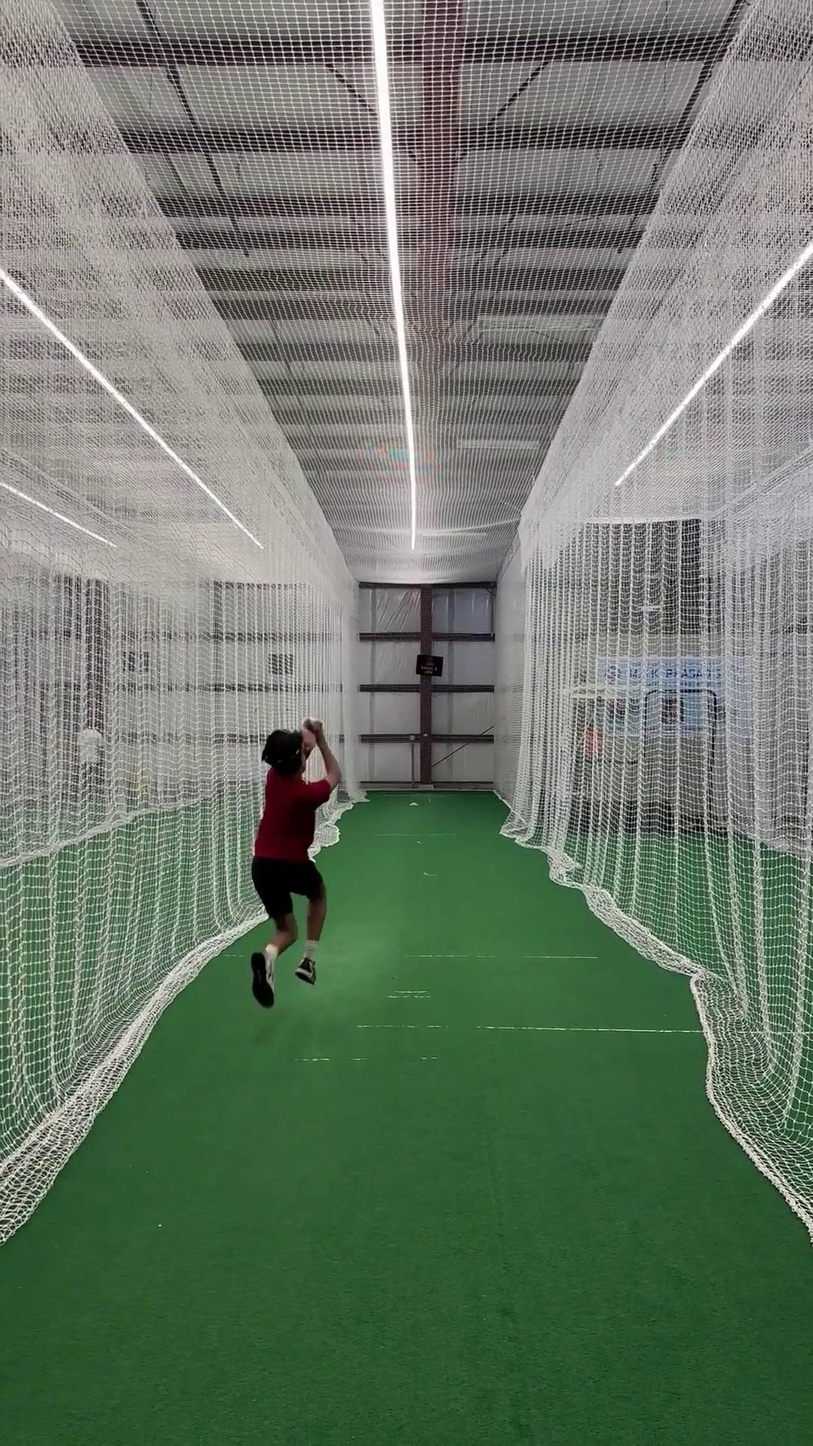ball: (299, 714, 319, 733)
